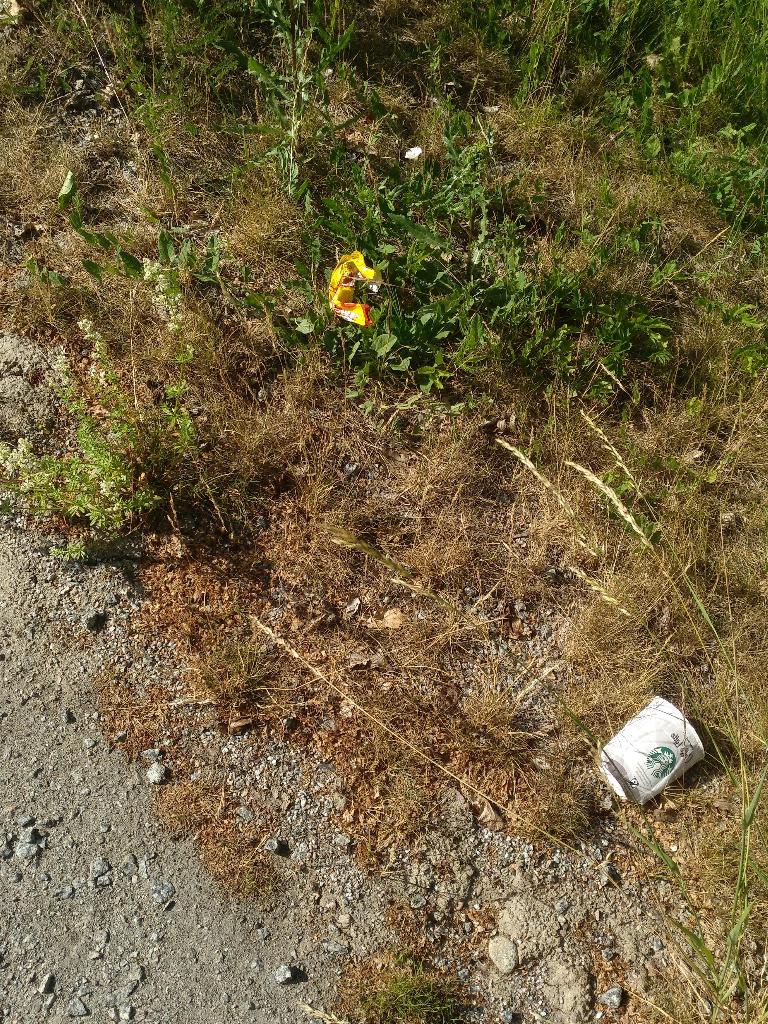garbage: (562, 697, 728, 819), (601, 697, 704, 804), (308, 230, 416, 329), (329, 250, 382, 326)
